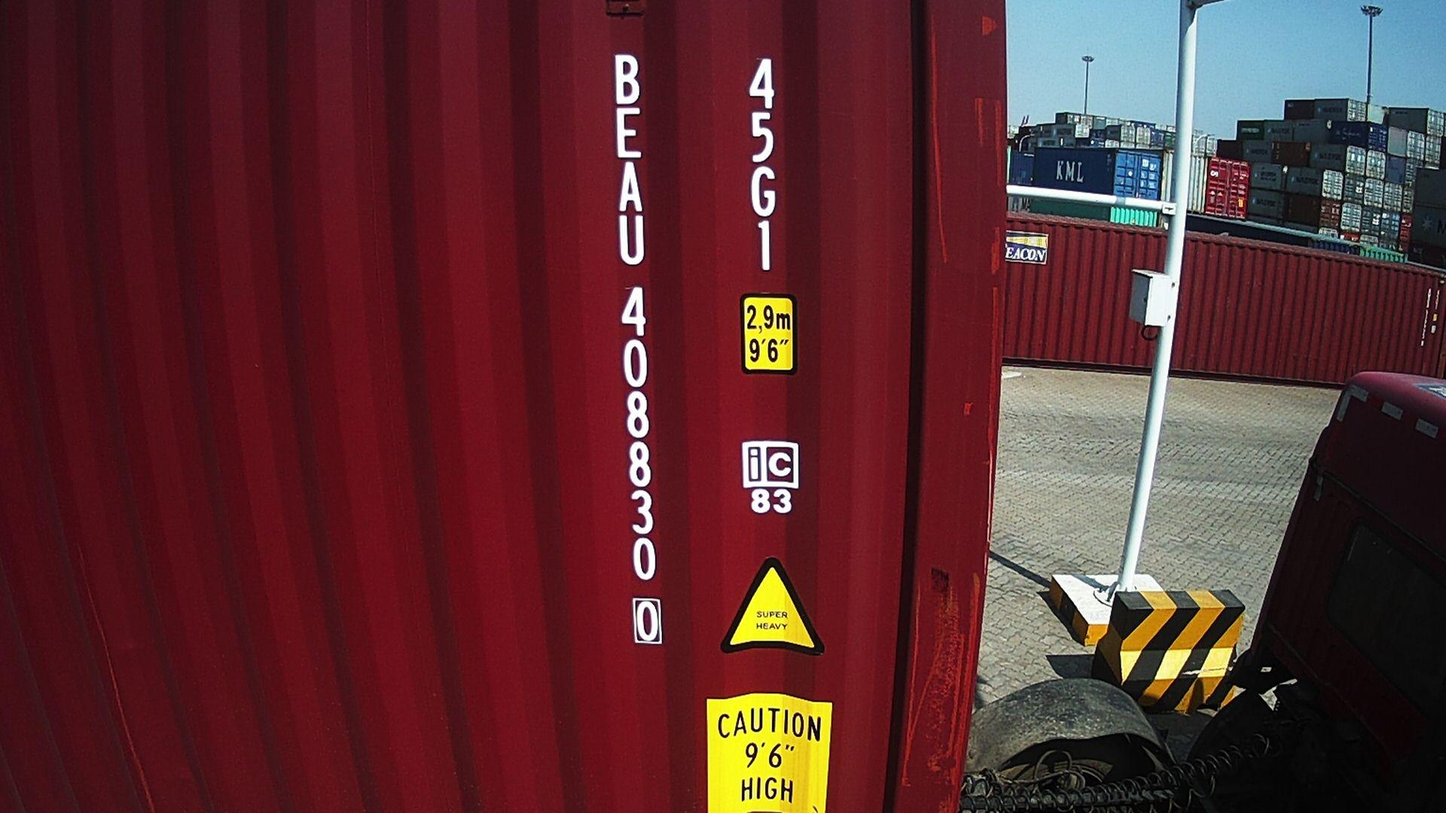container-numbers: (609, 50, 667, 649), (743, 53, 786, 276)
